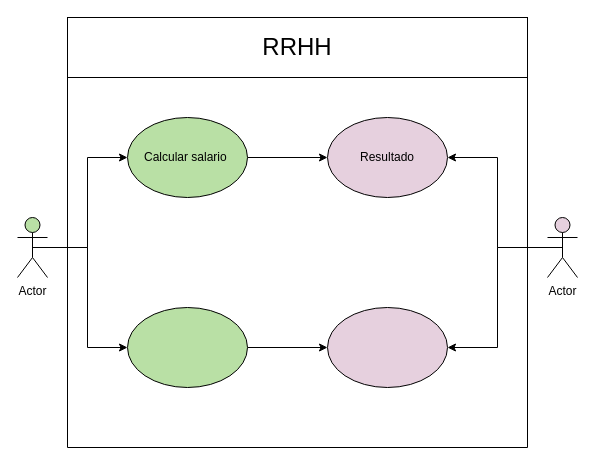
Image size: 595x465. Some labels were removed from this diagram. The shapes that lost their labels are listed below. From the top down, each one's centre as x and y in pixels, then its label:
point (187, 347): Evaluación de desempeño
point (387, 347): Guardado
